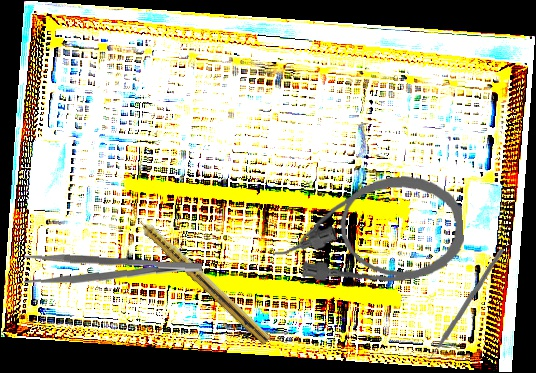Cannula: (268, 172, 467, 290)
Chopper: (417, 246, 504, 365)
Dressing Forceps: (23, 252, 203, 291)
Handpiece: (124, 204, 274, 346)
